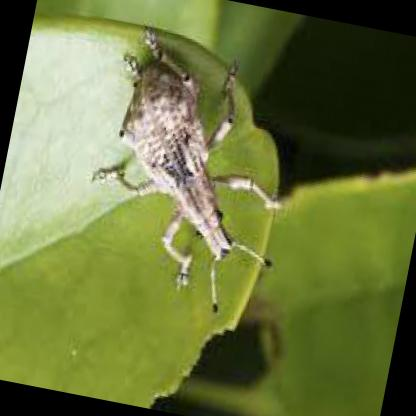ash weevil: (116, 28, 276, 305)
